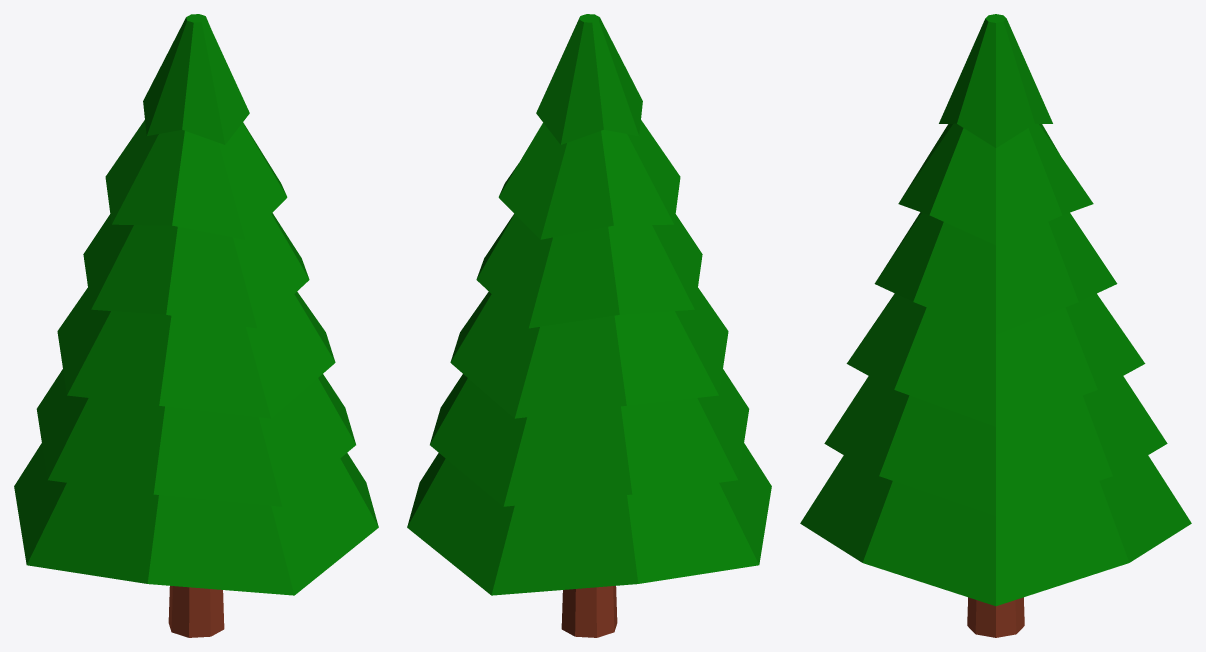
The model's file is Tree4.fbx.
3 renders of one model, left to right at view 1: azimuth 30°, elevation 25°; view 2: azimuth 150°, elevation 25°; view 3: azimuth 270°, elevation 25°, orthographic.
Parts seen in each view (by area): view 1: polySurface3, polySurface4; view 2: polySurface3, polySurface4; view 3: polySurface3, polySurface4.
Part boxes in pixels (left/top/right/bottom): polySurface3: left=14, top=14, right=378, bottom=595; polySurface4: left=168, top=586, right=224, bottom=637; polySurface3: left=407, top=14, right=771, bottom=595; polySurface4: left=561, top=586, right=617, bottom=637; polySurface3: left=800, top=14, right=1191, bottom=606; polySurface4: left=967, top=597, right=1024, bottom=637.
Size of the model in its own units: 371 by 634 by 371.
